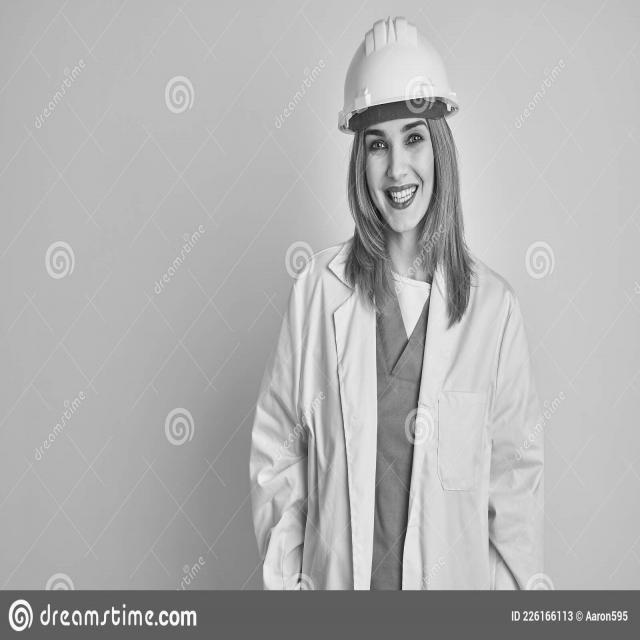safety_helmet: (337, 19, 461, 135)
